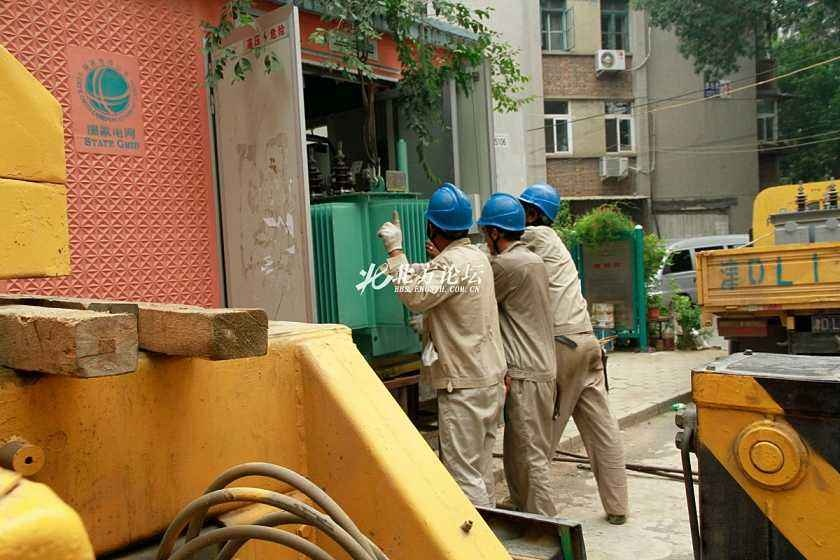blue: (421, 183, 470, 250), (476, 190, 522, 251), (520, 181, 559, 233)
